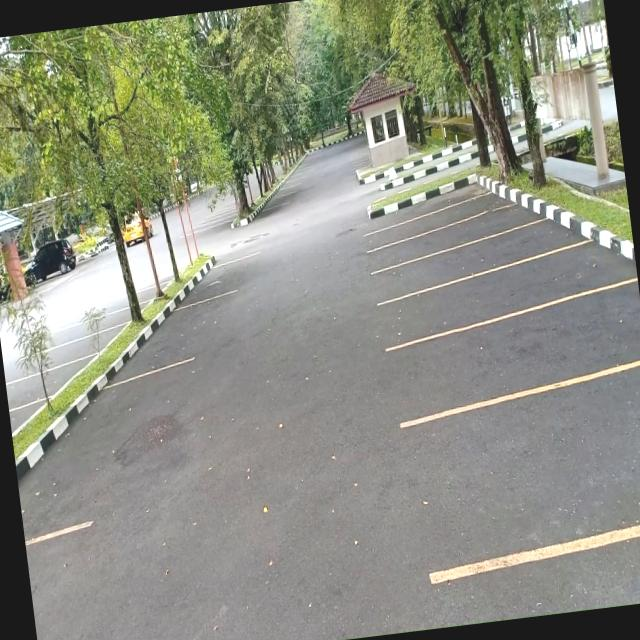free: (404, 362, 640, 567), (388, 286, 640, 418), (38, 369, 200, 538), (384, 238, 637, 338), (462, 236, 622, 314), (390, 222, 566, 288), (373, 212, 532, 266), (145, 298, 238, 372), (371, 197, 501, 243), (185, 260, 257, 304), (4, 366, 79, 408), (47, 328, 123, 362), (42, 335, 108, 368), (72, 311, 134, 336), (8, 402, 43, 440)
